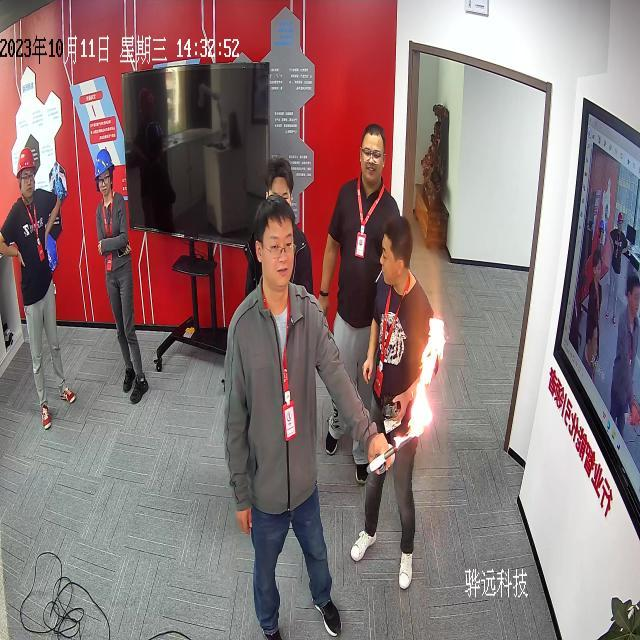Fire: (396, 319, 446, 447)
